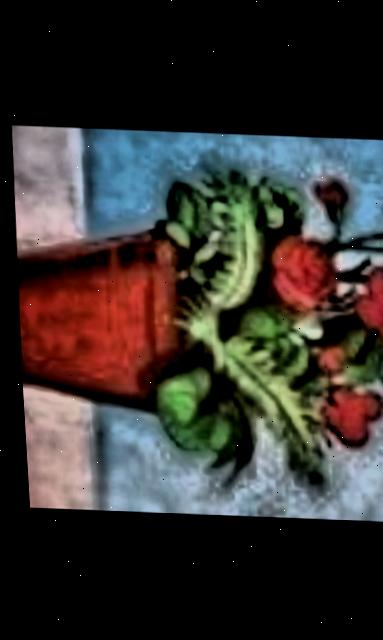La Maceta: (6, 124, 383, 521)
